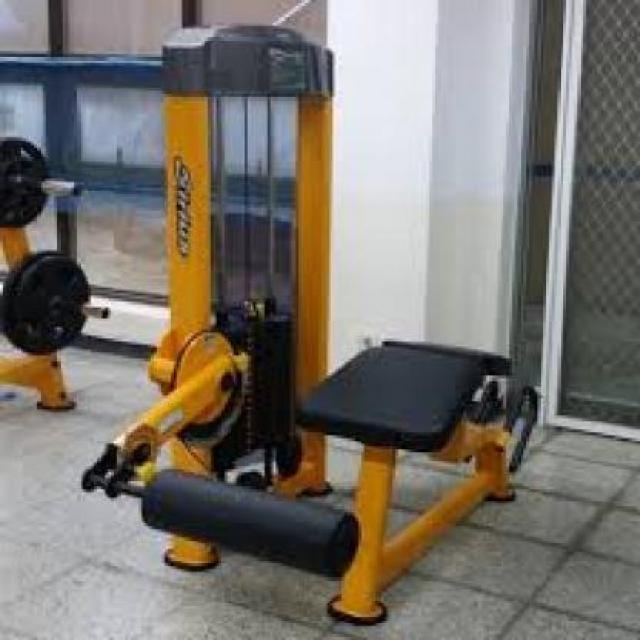reg curl machine: (79, 26, 543, 628)
